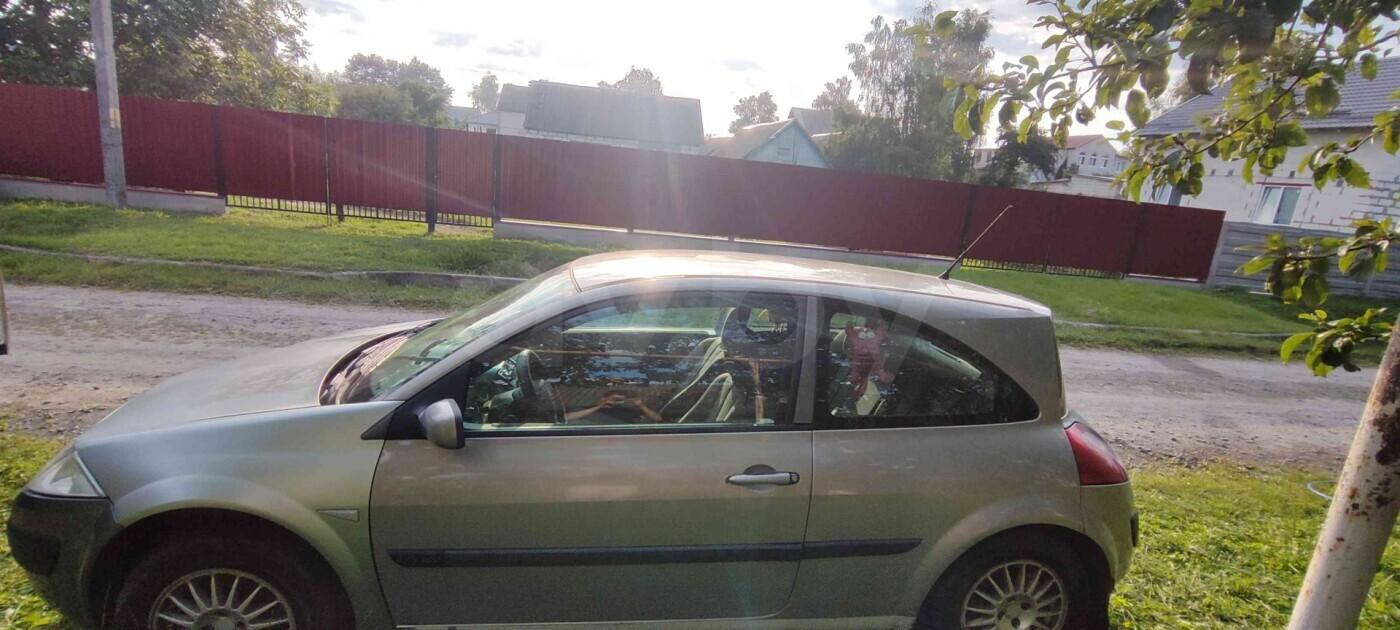Megane_2002-2006: (6, 247, 1141, 630)
